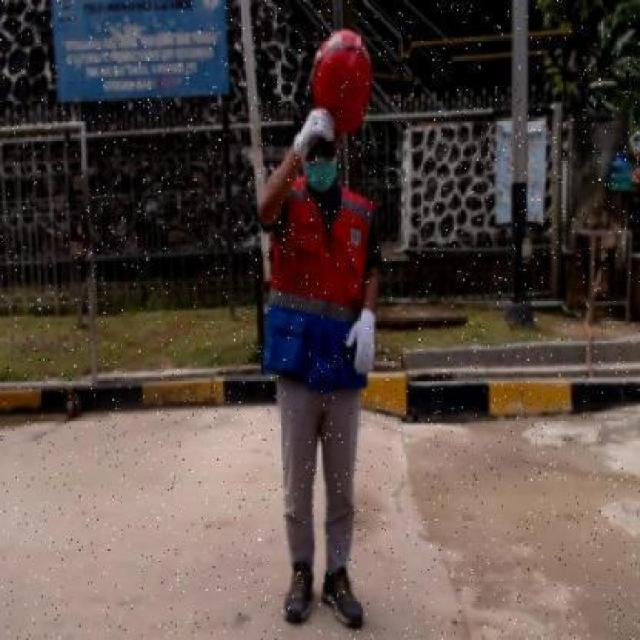Boots: (319, 564, 366, 631), (279, 562, 315, 632)
Gloves: (342, 304, 380, 378), (286, 110, 340, 158)
Helmet: (310, 26, 376, 128)
Mask: (298, 155, 342, 199)
